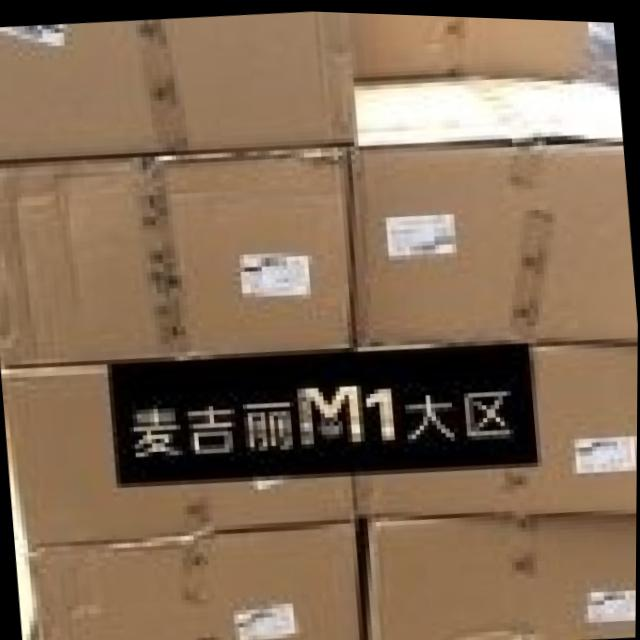box: (0, 143, 353, 366), (350, 72, 635, 343), (2, 346, 357, 548), (0, 9, 358, 160), (354, 338, 638, 513), (28, 520, 365, 640), (370, 511, 637, 640), (352, 10, 589, 75)
